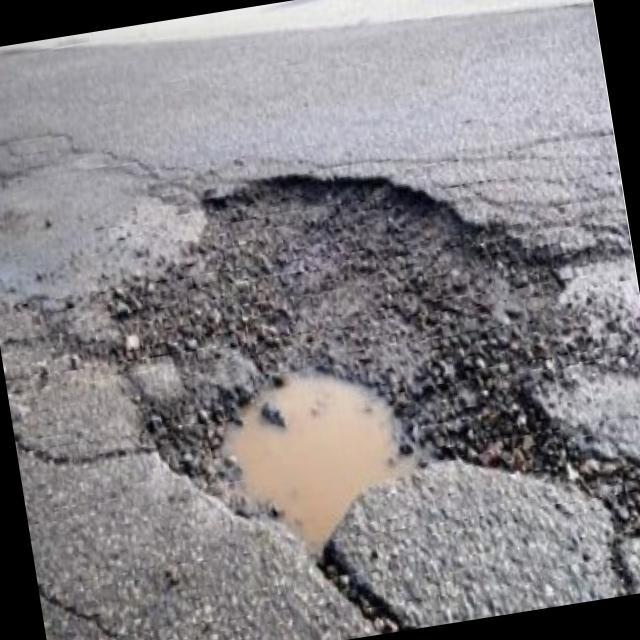Pothole: (90, 99, 640, 622)
